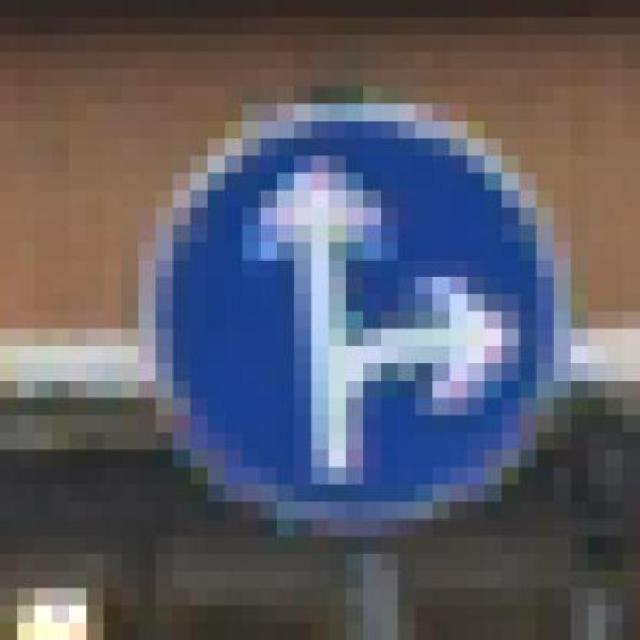Go Straight or Turn Right: (121, 87, 588, 519)
